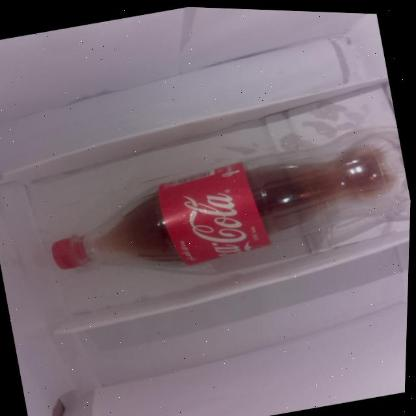Plastic Bottle: (1, 6, 411, 414), (51, 134, 402, 270)
